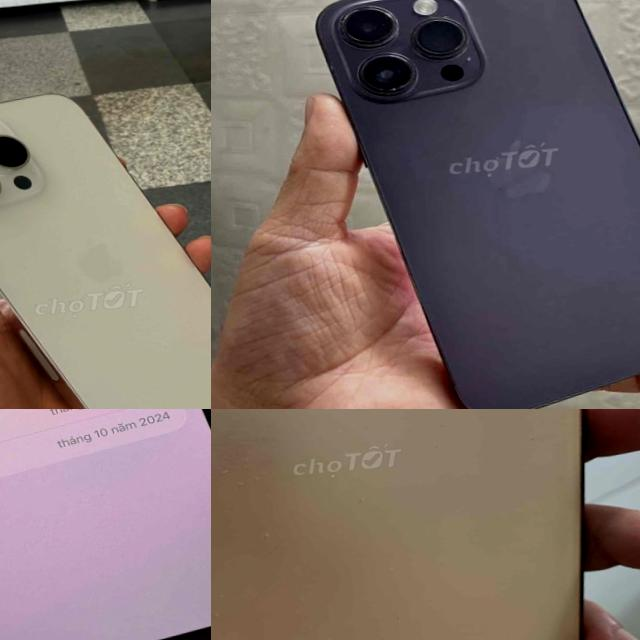gen_11: (211, 409, 621, 640)
gen_14: (309, 0, 640, 409), (0, 67, 211, 409)
gen_16: (0, 409, 211, 640)
